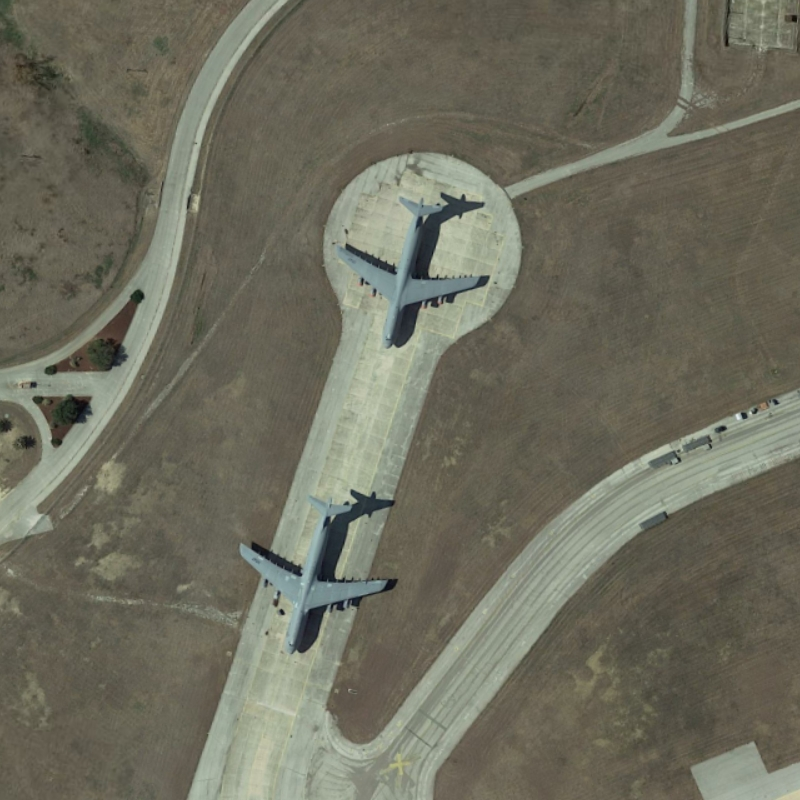A4: (324, 188, 493, 357), (228, 487, 393, 659)
